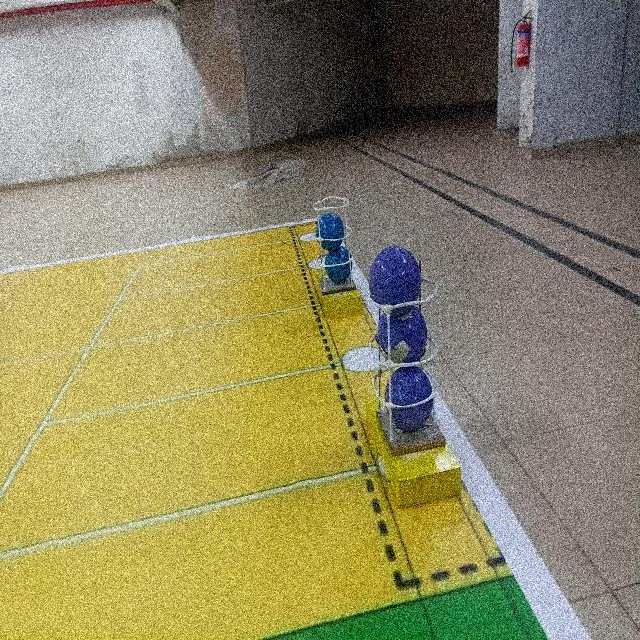blue_ball: (315, 212, 345, 250), (324, 249, 356, 283)
purple_ball: (367, 244, 423, 316), (382, 369, 438, 431), (375, 309, 430, 366)
silo: (364, 271, 458, 480), (309, 192, 363, 302)
